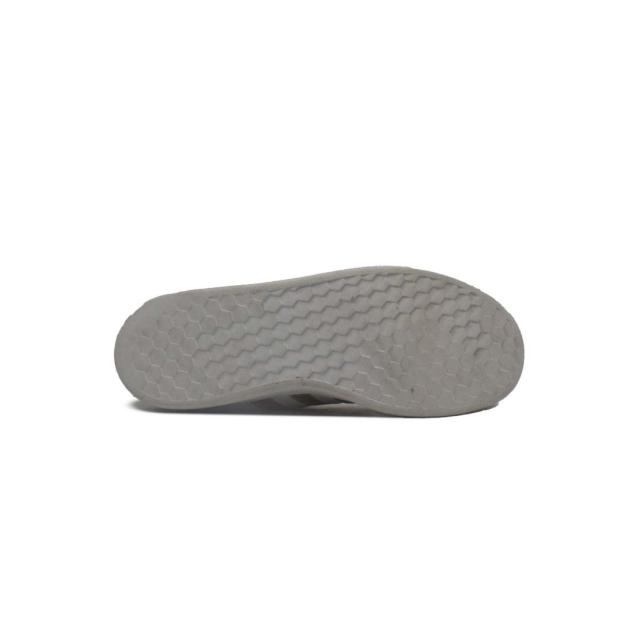outersole: (112, 264, 526, 418)
